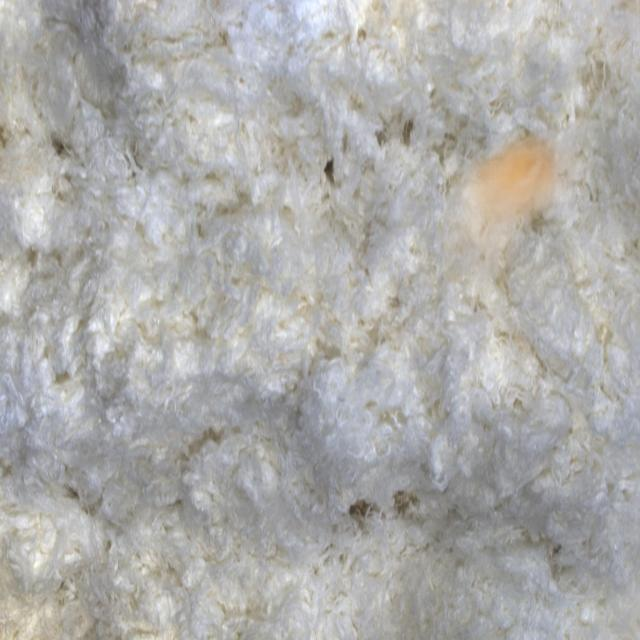dust: (443, 126, 589, 301)
